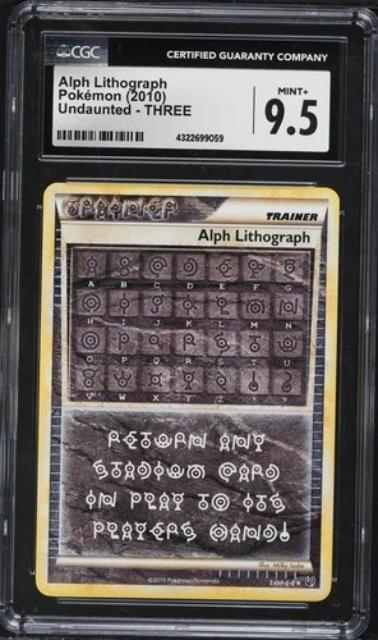Card: (35, 174, 342, 603)
Name: (195, 223, 321, 247)
